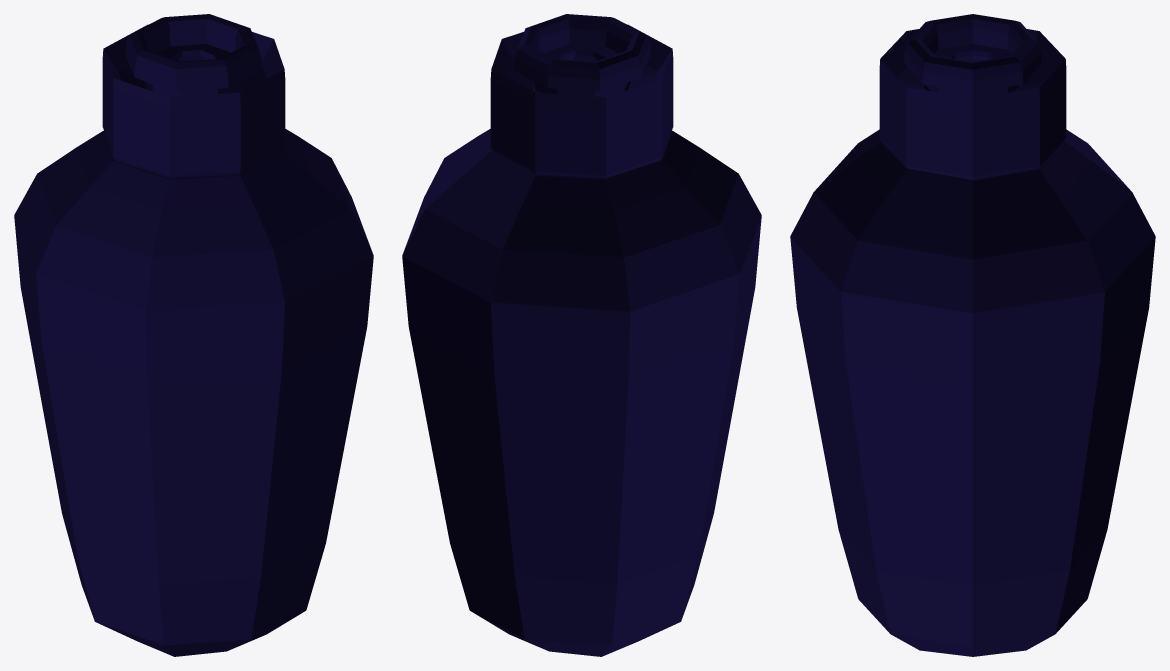
File: Vase 3.fbx
3 views of the same model, side by side, from view 1: azimuth 30°, elevation 25°; view 2: azimuth 150°, elevation 25°; view 3: azimuth 270°, elevation 25° (orthographic).
Visible parts, largest first — view 1: Node 0; view 2: Node 0; view 3: Node 0.
Part boxes in pixels (<box>): Node 0: <box>14,14,373,656</box>; Node 0: <box>402,14,761,656</box>; Node 0: <box>790,14,1155,656</box>.
Size of the model in its own units: 0.1152 by 0.2068 by 0.1152.
